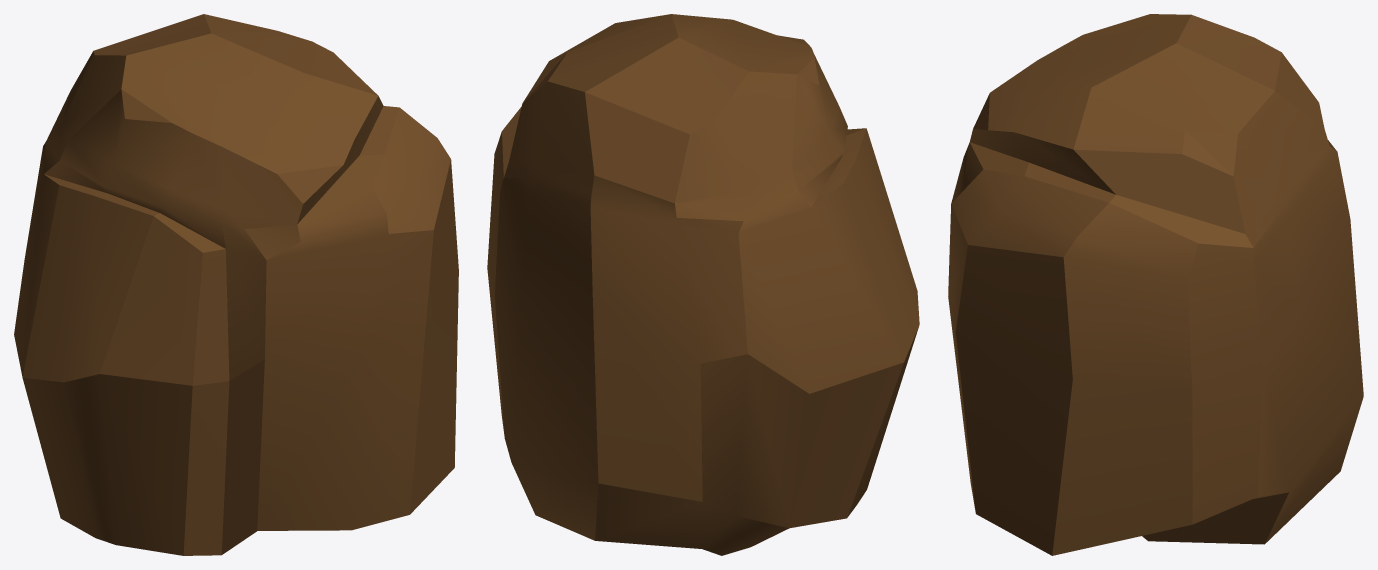
Rendered from quaternius-ultimate-space-rock-3-transformed.glb.
3 renders of one model, left to right at view 1: azimuth 30°, elevation 25°; view 2: azimuth 150°, elevation 25°; view 3: azimuth 270°, elevation 25°, orthographic. The views are drawn at different scales.
Parts seen in each view (by area): view 1: Rock_3; view 2: Rock_3; view 3: Rock_3.
Part boxes in pixels (box(x1,y1,x2,y2)): Rock_3: box(14, 14, 458, 555); Rock_3: box(487, 14, 919, 555); Rock_3: box(948, 14, 1363, 555).
Bounding box in the file's own units: 3.3 × 3.83 × 3.01.
Materials: 1 (1 with a texture image).
